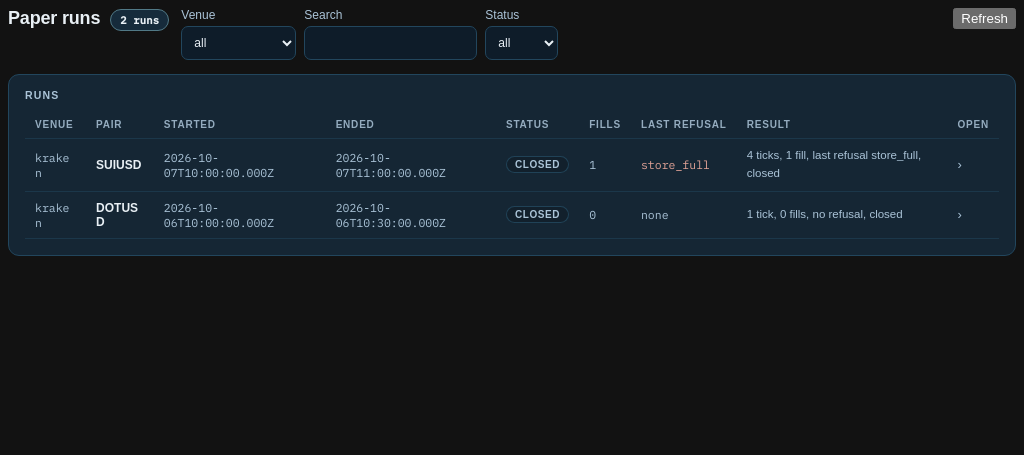
LastRunsPanel Signal layout — run detail panel › keeps the detail close control inside the detail panel header
expect the table with test id "paper-last-runs-table" is shown: met, box [25,111,999,239]
Click the row with test id "paper-last-runs-row-kraken-SUIUSD": (512, 165) [25,138,999,191]
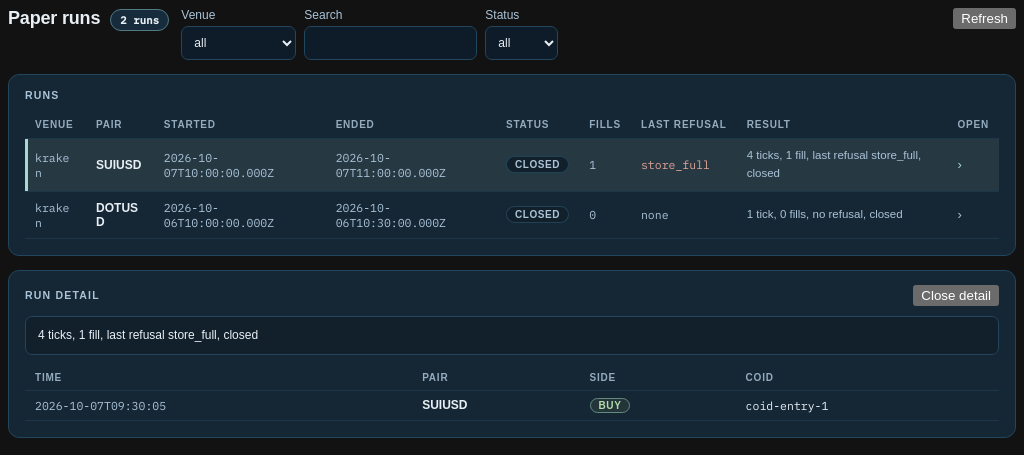
expect the button with test id "paper-last-runs-detail-close" reads "Close detail": met
Click the button with test id "paper-last-runs-detail-close": (956, 295) [913,285,999,306]
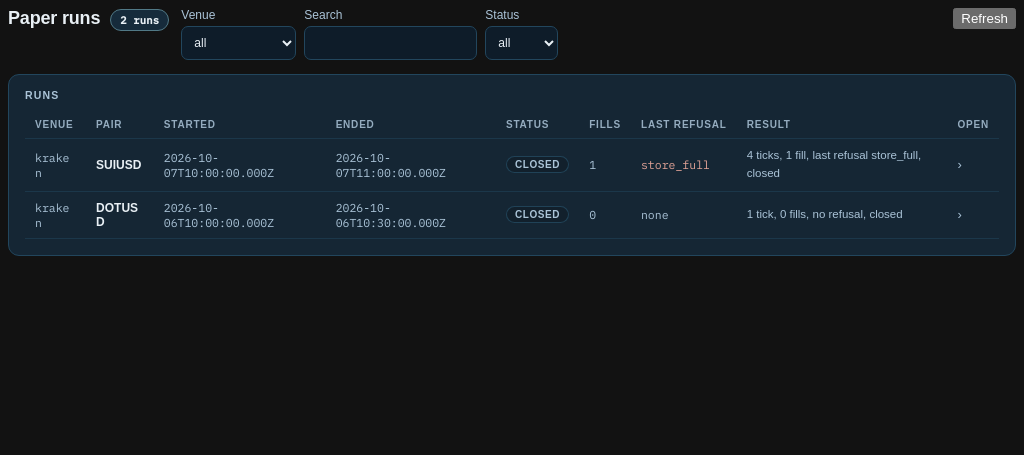
expect the element with test id "paper-last-runs-detail" is gone: met
